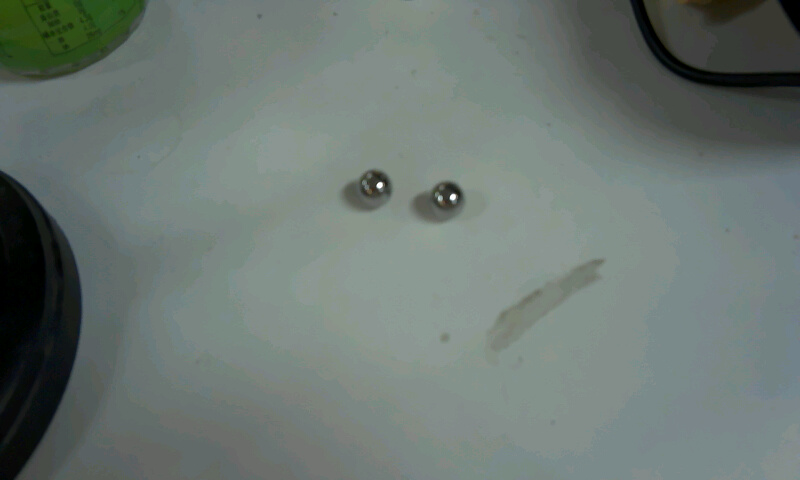steelball: (422, 173, 474, 226), (350, 163, 400, 212)
